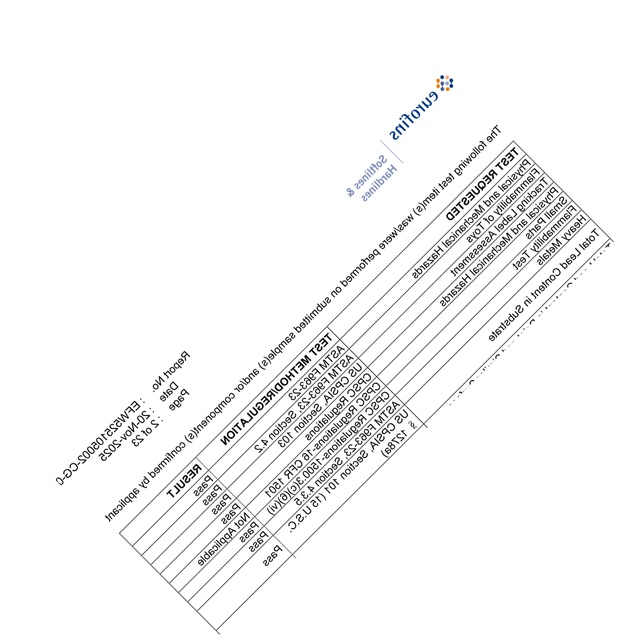eurofins: (388, 69, 458, 141)
